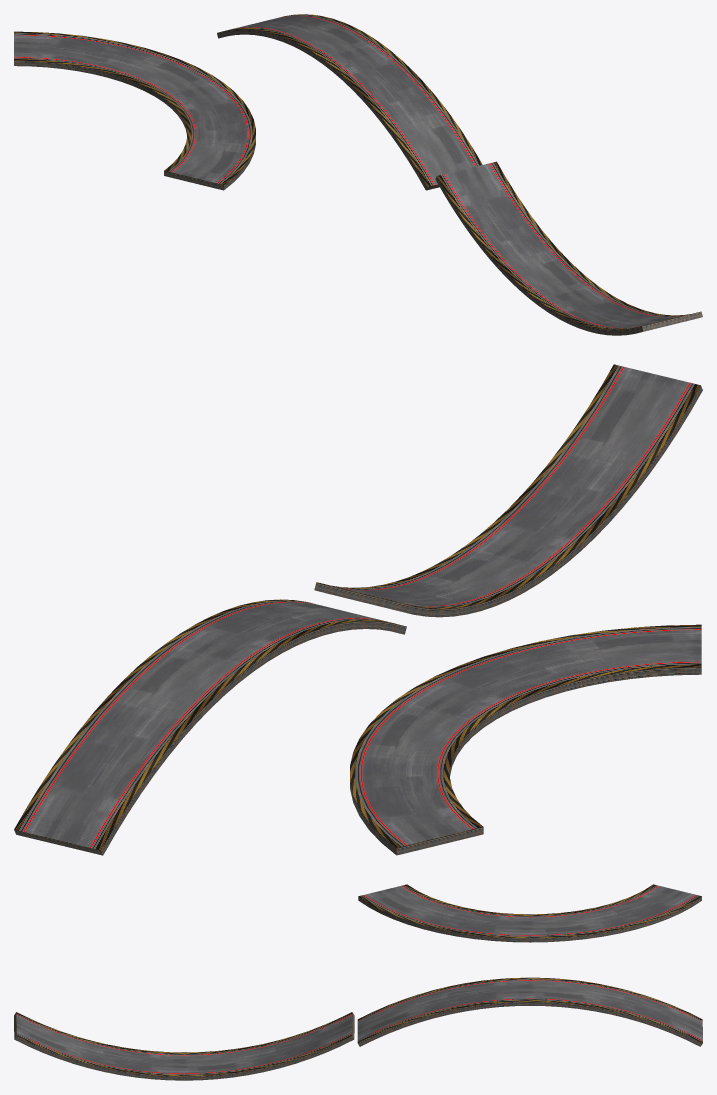
File: Curved paths.FBX
The picture shows the model from 3 angles, top to bottom: view 1: azimuth 30°, elevation 25°; view 2: azimuth 150°, elevation 25°; view 3: azimuth 270°, elevation 25°; orthographic projection. The views are drawn at different scales.
Visible parts, largest first — view 1: Box007, Box009, Box008; view 2: Box007, Box008, Box009; view 3: Box007, Box008, Box009.
Part boxes in pixels (x1,y1,x2,y2): Box007: (14, 31, 255, 190); Box009: (435, 161, 702, 335); Box008: (217, 14, 482, 190); Box007: (350, 624, 701, 855); Box008: (14, 599, 406, 855); Box009: (314, 364, 702, 617); Box007: (358, 884, 701, 942); Box008: (357, 977, 702, 1046); Box009: (14, 1012, 354, 1080).
Size of the model in its own units: 4779 by 1438 by 11647.
1 material, 1 textured.
